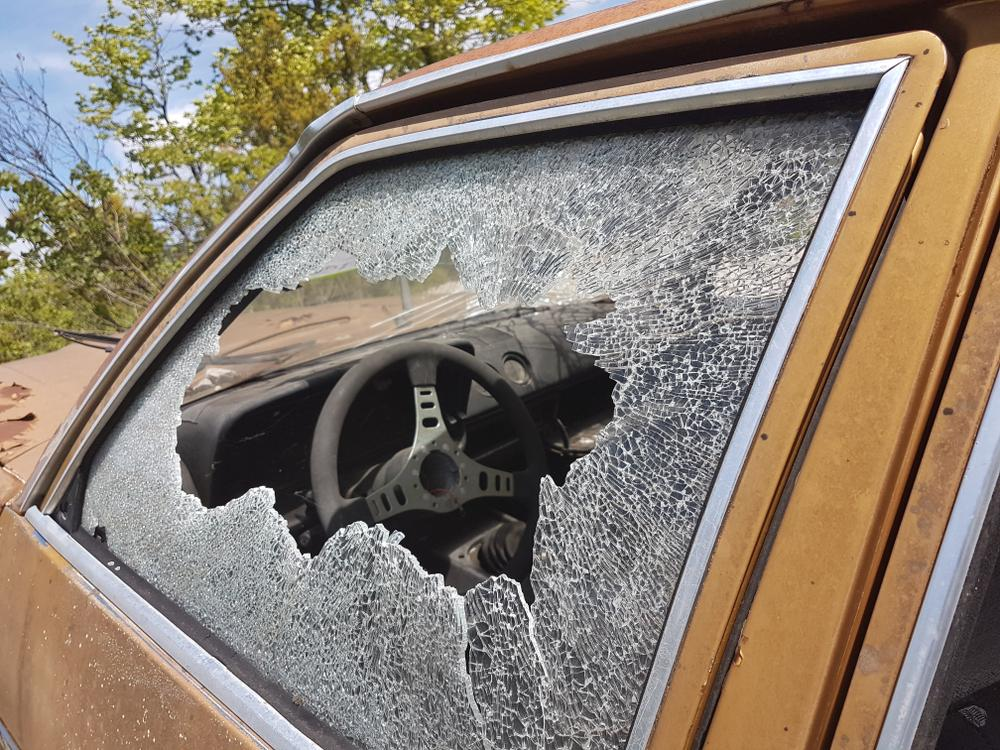glass shatter: (81, 96, 874, 750)
